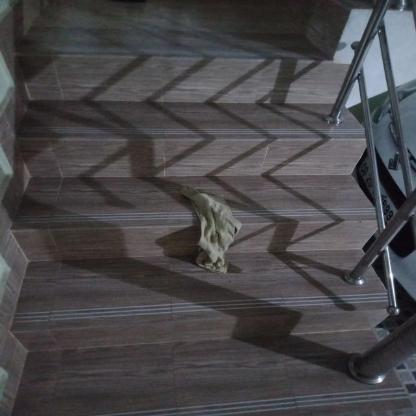stair: (6, 9, 409, 408)
